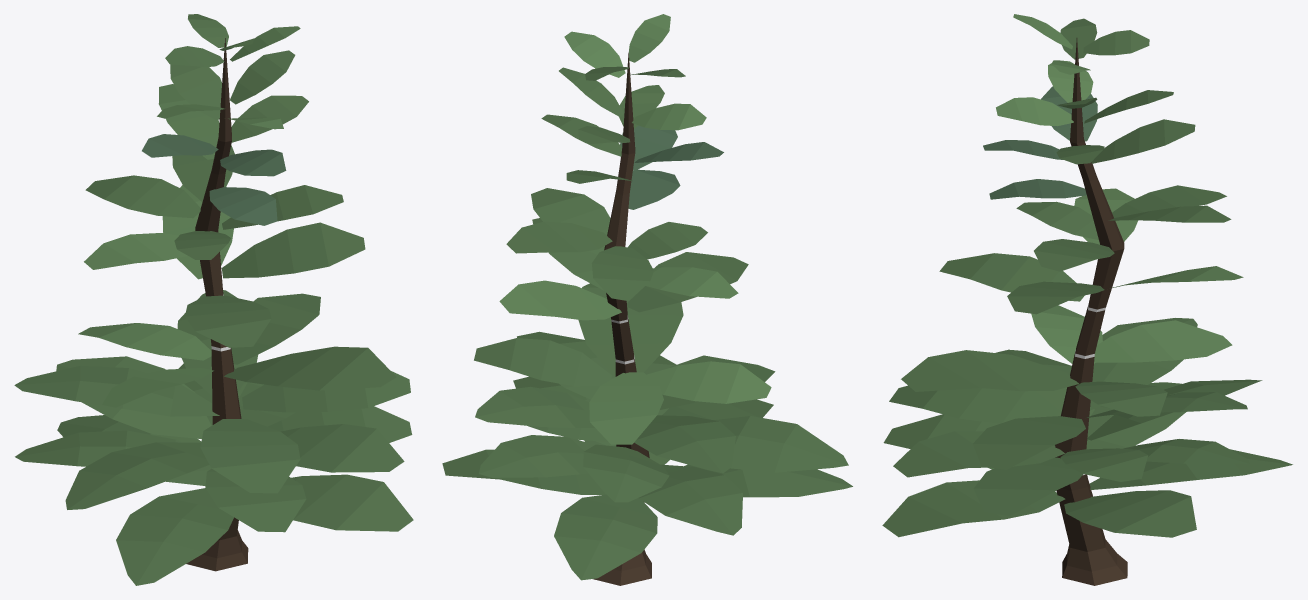
Rendered from tree3.glb.
The picture shows the model from 3 angles, left to right: view 1: azimuth 30°, elevation 25°; view 2: azimuth 150°, elevation 25°; view 3: azimuth 270°, elevation 25°; orthographic projection. The views are drawn at different scales.
Parts seen in each view (by area): view 1: Plane.003, Cylinder.006, Plane.011, Plane.013, Plane.001, Plane.017, Plane.015, Plane.022, Plane.009, Plane.014, Plane.005, Plane.021 (+25 smaller); view 2: Plane.004, Plane.011, Cylinder.006, Plane.007, Plane.018, Plane.015, Plane.020, Plane.017, Plane.008, Plane.019, Plane.016, Plane.012 (+25 smaller); view 3: Cylinder.006, Plane.017, Plane.002, Plane.001, Plane.013, Plane.020, Plane.014, Plane.006, Plane.009, Plane.021, Plane.004, Plane.018 (+27 smaller).
Boxes of the visible parts, <box> form: Plane.003: <box>116,488,233,585</box>; Cylinder.006: <box>186,38,248,571</box>; Plane.011: <box>65,442,209,509</box>; Plane.013: <box>200,419,300,493</box>; Plane.001: <box>291,474,413,531</box>; Plane.017: <box>224,346,396,390</box>; Plane.015: <box>14,365,219,416</box>; Plane.022: <box>221,222,365,278</box>; Plane.009: <box>281,424,404,472</box>; Plane.014: <box>242,371,410,412</box>; Plane.005: <box>205,468,306,532</box>; Plane.021: <box>185,295,271,347</box>; Plane.004: <box>554,494,657,580</box>; Plane.011: <box>713,416,848,472</box>; Cylinder.006: <box>593,53,651,585</box>; Plane.007: <box>638,464,742,535</box>; Plane.018: <box>474,338,611,386</box>; Plane.015: <box>634,415,735,473</box>; Plane.020: <box>589,372,663,444</box>; Plane.017: <box>578,283,683,376</box>; Plane.008: <box>479,435,594,477</box>; Plane.019: <box>646,361,771,403</box>; Plane.016: <box>475,386,594,427</box>; Plane.012: <box>583,444,669,502</box>; Cylinder.006: <box>1055,38,1127,585</box>; Plane.017: <box>901,350,1078,391</box>; Plane.002: <box>1064,490,1196,537</box>; Plane.001: <box>882,480,1065,537</box>; Plane.013: <box>889,385,1059,423</box>; Plane.020: <box>1094,320,1232,362</box>; Plane.014: <box>972,416,1085,469</box>; Plane.006: <box>973,457,1082,515</box>; Plane.009: <box>893,431,1064,477</box>; Plane.021: <box>939,253,1084,301</box>; Plane.004: <box>1089,449,1292,489</box>; Plane.018: <box>1075,381,1167,416</box>.
Bounding box in the file's own units: 5.8 × 8.75 × 5.92.
